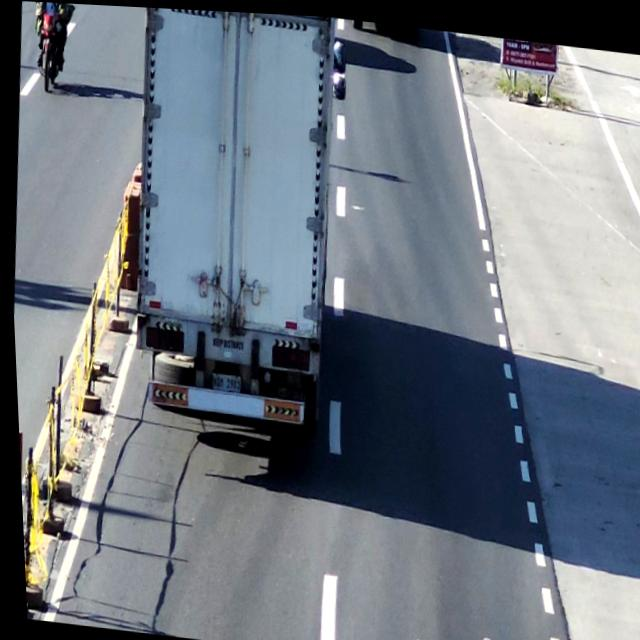License-Plate: (205, 369, 238, 394)
Truck: (116, 5, 350, 430)
